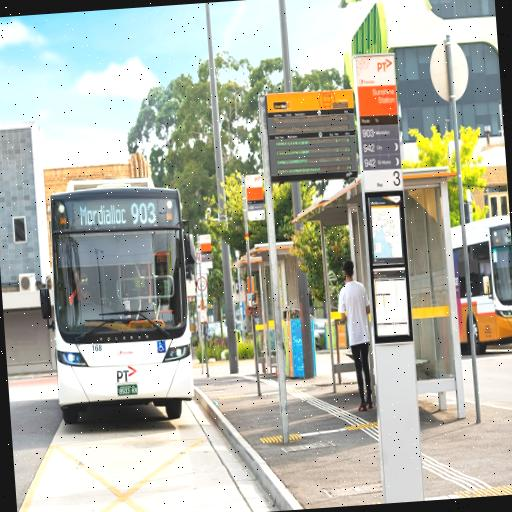Obstruction: (217, 173, 240, 374)
platform_edge: (194, 377, 358, 509)
signage: (258, 88, 358, 444), (351, 54, 426, 499), (241, 173, 266, 395), (197, 233, 213, 377)
tgsi: (262, 380, 379, 441), (453, 483, 512, 498), (259, 432, 302, 444), (344, 421, 377, 431), (218, 394, 247, 401)
